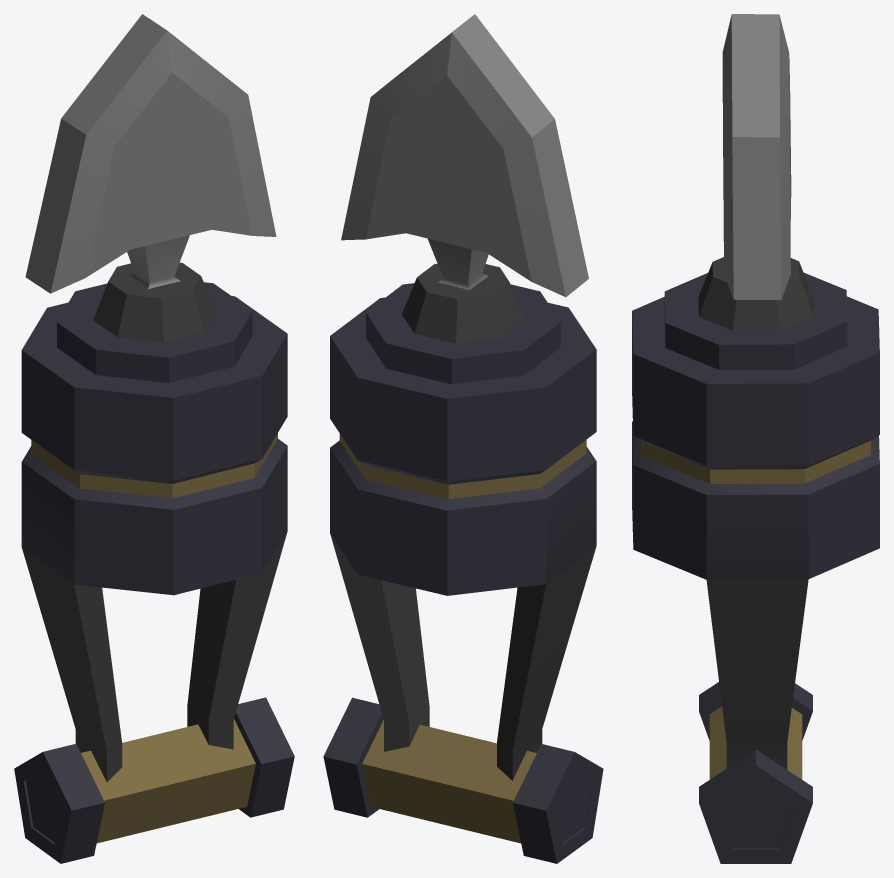
File: Novice_HookShot.fbx
The picture shows the model from 3 angles, left to right: view 1: azimuth 30°, elevation 25°; view 2: azimuth 150°, elevation 25°; view 3: azimuth 270°, elevation 25°; orthographic projection.
Visible parts, largest first — view 1: Handle, Hook, Handle_Base, Handle_Cap2, Handle_Cap1; view 2: Handle, Hook, Handle_Base, Handle_Cap2, Handle_Cap1; view 3: Handle, Hook, Handle_Cap1, Handle_Base, Handle_Cap2.
Part boxes in pixels (box(x1,y1,x2,y2)): Handle: box(21, 262, 287, 781); Hook: box(25, 14, 276, 293); Handle_Base: box(81, 719, 255, 843); Handle_Cap2: box(14, 744, 104, 863); Handle_Cap1: box(234, 697, 294, 817); Handle: box(330, 263, 596, 780); Hook: box(341, 14, 588, 297); Handle_Base: box(362, 720, 536, 843); Handle_Cap2: box(513, 744, 603, 863); Handle_Cap1: box(323, 697, 383, 817); Handle: box(632, 257, 879, 769); Hook: box(722, 14, 791, 300); Handle_Cap1: box(699, 749, 812, 863); Handle_Base: box(709, 706, 802, 779); Handle_Cap2: box(699, 682, 812, 740).
Size of the model in its own units: 0.2072 by 0.6985 by 0.1971.
